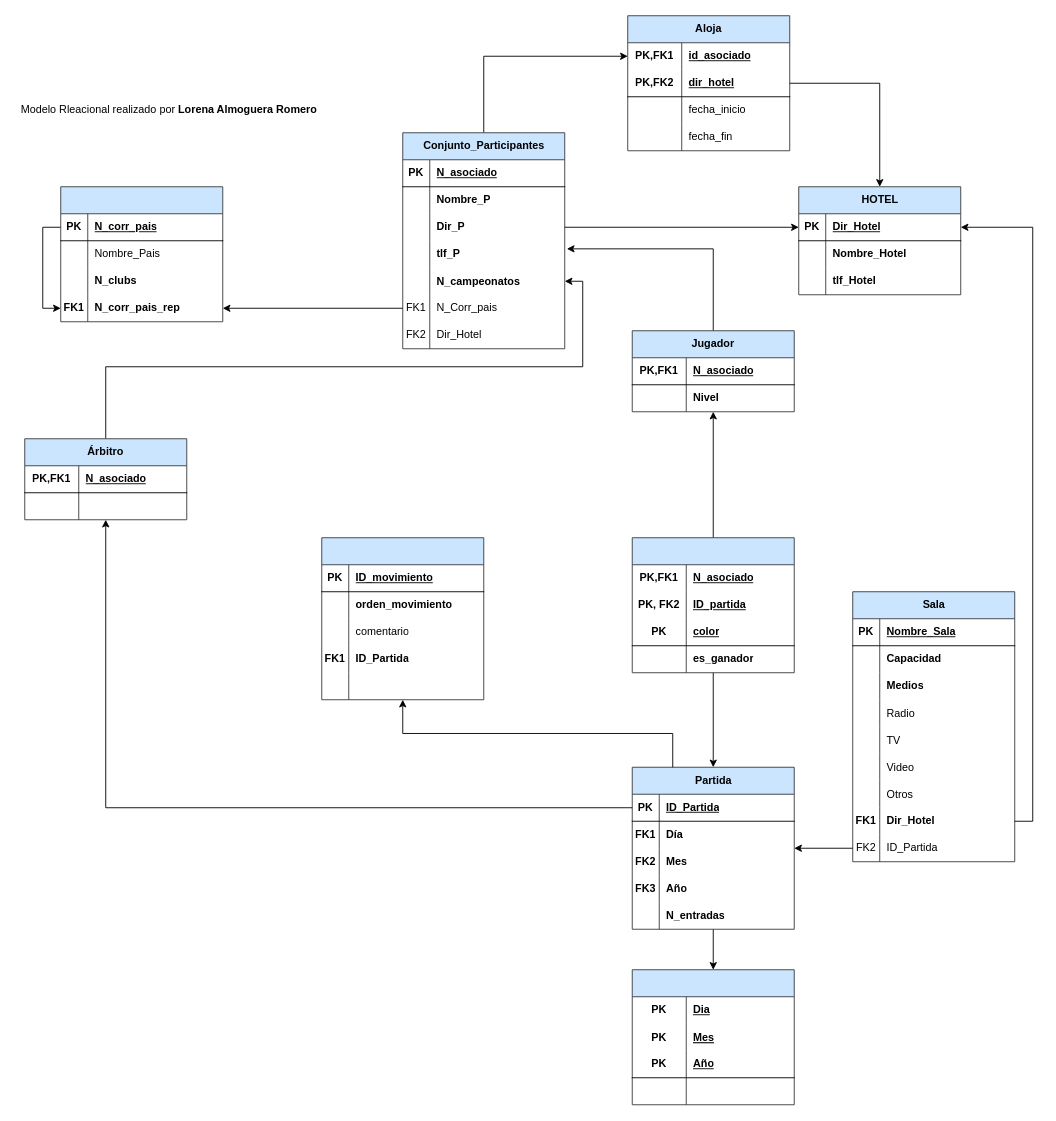
This 1056x1121 diagram has some shape labels left out. Each missing label, with the box of its shape:
Jornada: (631, 969, 794, 1105)
Movimientos: (321, 537, 484, 700)
Participar: (631, 537, 794, 673)
País: (60, 186, 223, 322)
